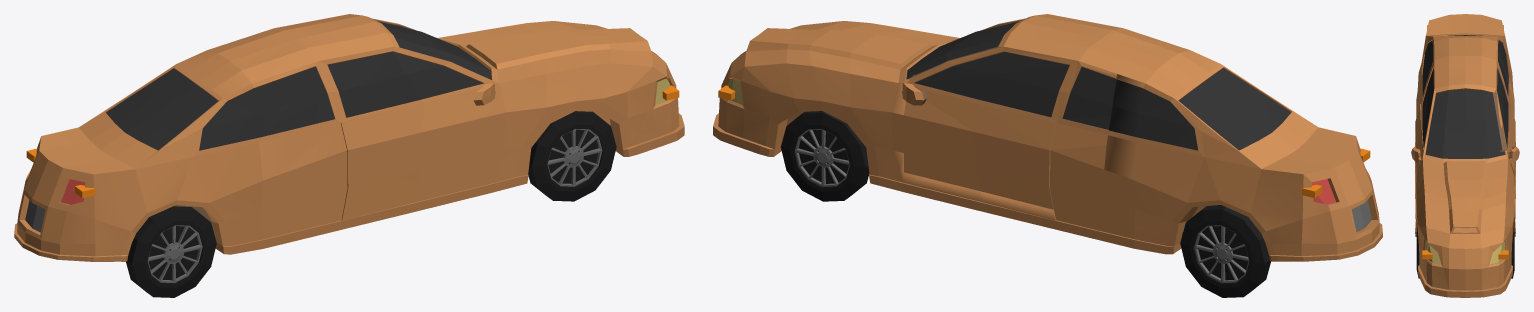
File: sports_car_2.glb
The picture shows the model from 3 angles, left to right: view 1: azimuth 30°, elevation 25°; view 2: azimuth 150°, elevation 25°; view 3: azimuth 270°, elevation 25°; orthographic projection. The views are drawn at different scales.
Parts seen in each view (by area): view 1: SportsCar_Cube.005, Wheels, Wheel.001; view 2: SportsCar_Cube.005, DriverDoor, Wheels, Wheel; view 3: SportsCar_Cube.005, DriverDoor, Wheel, Wheel.001, IndicatorLeft, IndicatorRight.
Boxes of the visible parts, x1,y1,x2,y2 form: SportsCar_Cube.005: (14, 14, 684, 261); Wheels: (126, 206, 216, 297); Wheel.001: (528, 111, 616, 201); SportsCar_Cube.005: (713, 14, 1382, 261); DriverDoor: (904, 46, 1116, 221); Wheels: (1180, 205, 1270, 297); Wheel: (781, 111, 869, 201); SportsCar_Cube.005: (1411, 14, 1518, 297); DriverDoor: (1493, 49, 1519, 186); Wheel: (1511, 217, 1514, 278); Wheel.001: (1416, 219, 1419, 278); IndicatorLeft: (1498, 25, 1508, 259); IndicatorRight: (1422, 25, 1432, 259).
Size of the model in its own units: 3.53 by 1.03 by 0.74.
